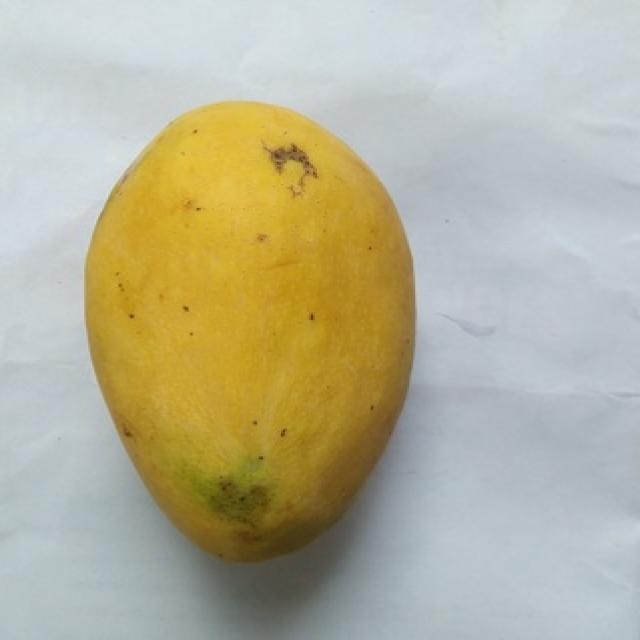Mango: (84, 102, 413, 560)
